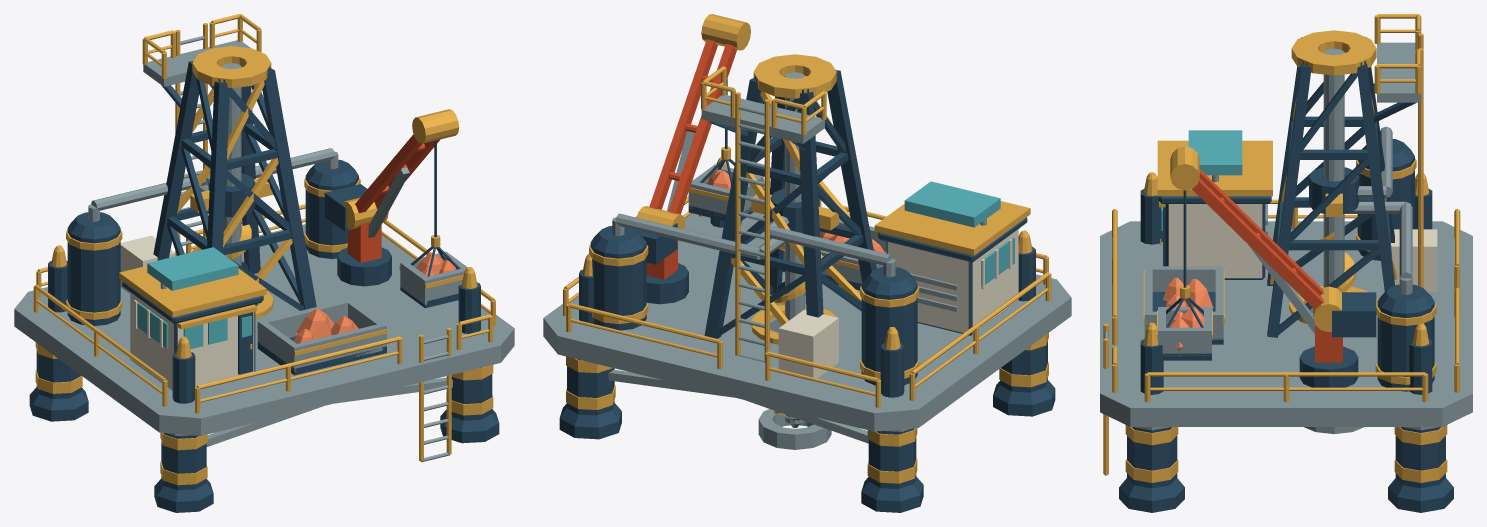
The model's file is ocean-mining-lv3.glb.
3 views of the same model, side by side, from view 1: azimuth 30°, elevation 25°; view 2: azimuth 150°, elevation 25°; view 3: azimuth 270°, elevation 25° (orthographic). The views are drawn at different scales.
Parts seen in each view (by area): view 1: Mining_L3, Suspended_Ore.002, Spindle_And_Auger.002; view 2: Mining_L3, Suspended_Ore.002, Spindle_And_Auger.002; view 3: Mining_L3, Spindle_And_Auger.002, Suspended_Ore.002, Ore_Slings.002.
Part boxes in pixels (x1,y1,x2,y2): Mining_L3: [14, 14, 514, 512]; Suspended_Ore.002: [399, 251, 467, 308]; Spindle_And_Auger.002: [222, 63, 251, 265]; Mining_L3: [543, 14, 1071, 512]; Suspended_Ore.002: [688, 164, 764, 220]; Spindle_And_Auger.002: [774, 72, 806, 427]; Mining_L3: [1100, 14, 1472, 512]; Spindle_And_Auger.002: [1319, 48, 1355, 292]; Suspended_Ore.002: [1157, 307, 1212, 360]; Ore_Slings.002: [1166, 285, 1203, 327].
Bounding box in the file's own units: 5.1 × 4.83 × 4.3.
